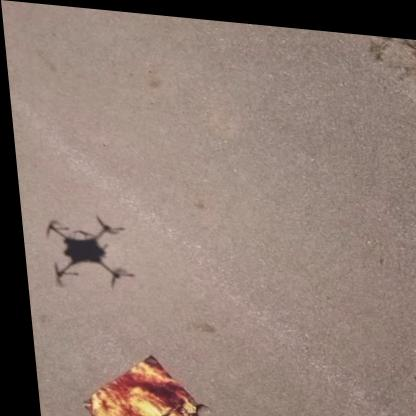fire-poster: (67, 346, 203, 416)
